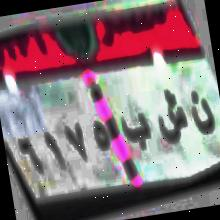1: (40, 118, 71, 185)
5: (89, 113, 114, 161)
6: (15, 126, 46, 190)
7: (64, 116, 94, 178)
baa: (116, 100, 158, 158)
noon: (187, 88, 219, 149)
sheen: (152, 82, 192, 156)
